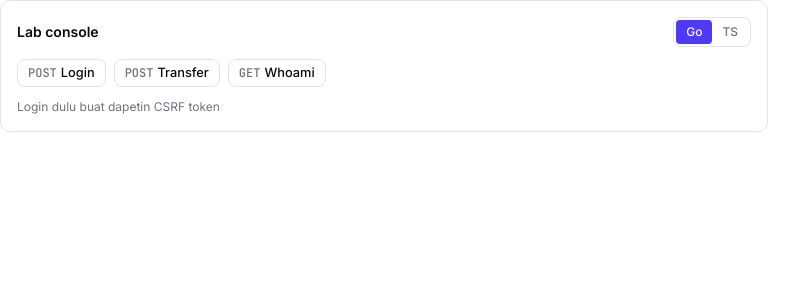
Scenario: LabConsole › replaces {{csrfToken}} in headers and body with the token from the latest login response
Later steps or results of the test are not shown.
Expected: the text "Login dulu buat dapetin CSRF token" is shown, [17,99,220,114]
Step 1. Click the button "POST Transfer" → (167, 73), box [114,59,220,87]
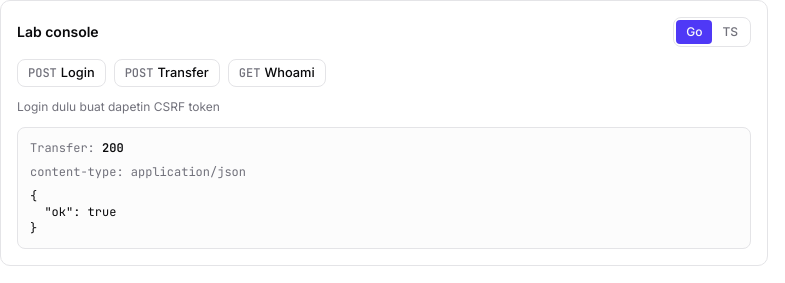
Step 2. Click the button "POST Login" → (61, 73), box [17,59,106,87]
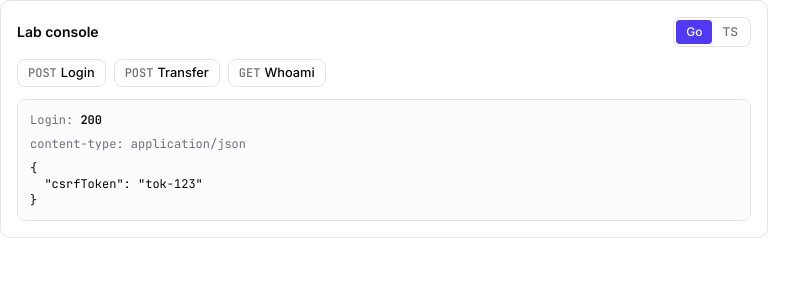
Expected: the text "{ \"csrfToken\": \"tok-123\" }" is shown, [30,160,203,208]
Expected: the text "Login dulu buat dapetin CSRF token" is gone
